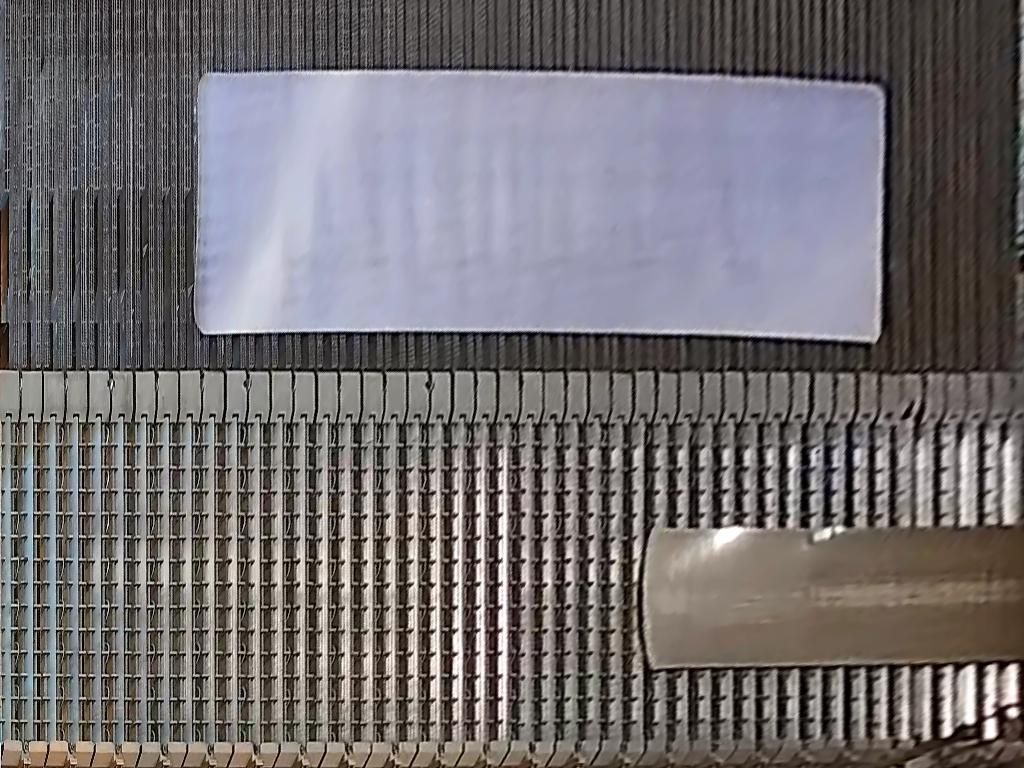steel: (190, 70, 884, 343), (639, 524, 1024, 671)
